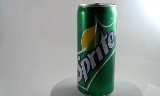sprite: (70, 2, 110, 95)
